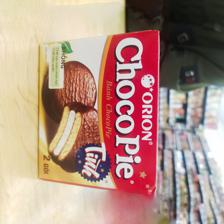Chocopie: (33, 27, 162, 201)
